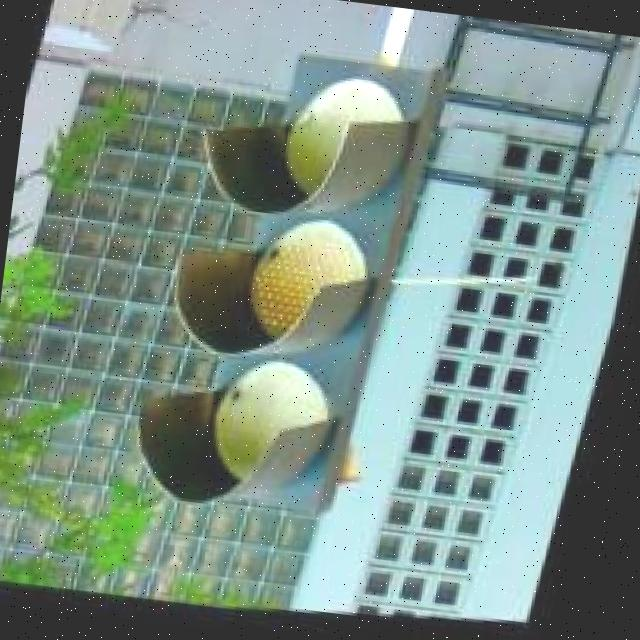yellow_light: (117, 25, 456, 541)
